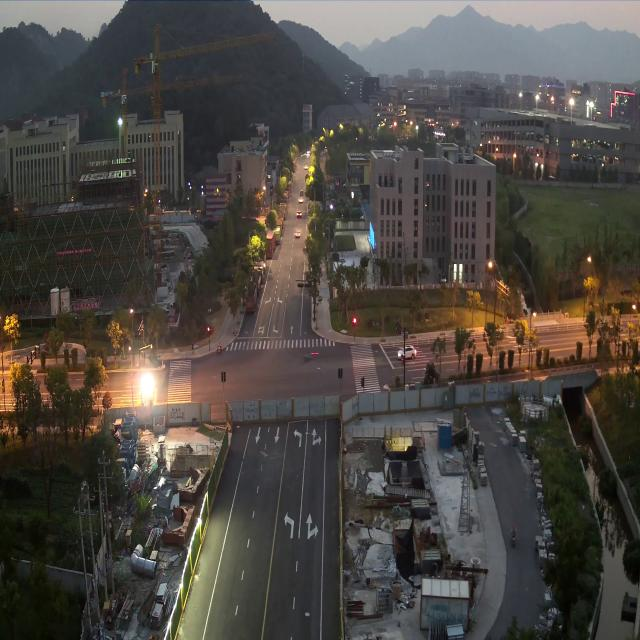UAV: (298, 352, 318, 364)
